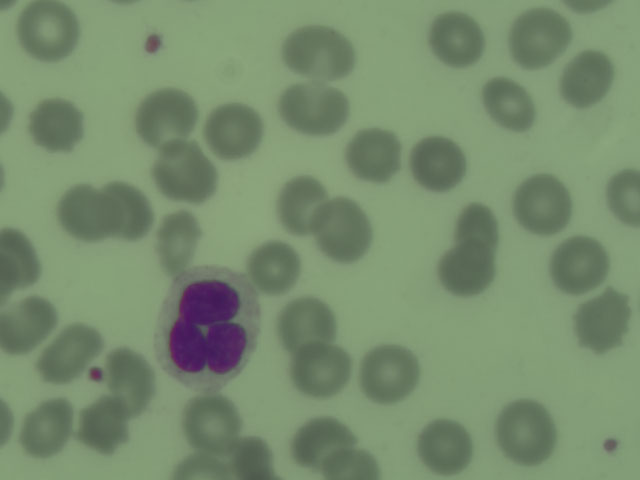Platelets: (140, 31, 167, 59), (599, 434, 620, 459), (87, 365, 107, 385)
RBC: (278, 20, 359, 78), (279, 83, 354, 138), (413, 136, 466, 193), (574, 292, 627, 349), (552, 237, 605, 294), (514, 174, 567, 231), (499, 403, 552, 460), (418, 417, 471, 474), (362, 344, 415, 401), (294, 413, 347, 470), (294, 342, 347, 399), (281, 297, 334, 354), (318, 197, 371, 254), (273, 176, 326, 233), (483, 77, 536, 134), (559, 51, 612, 108), (514, 10, 567, 67), (429, 11, 482, 68), (246, 241, 299, 298), (186, 390, 239, 447), (19, 399, 72, 456), (76, 398, 129, 455), (110, 352, 163, 409), (41, 323, 94, 380), (154, 210, 207, 267), (159, 145, 212, 202), (205, 102, 258, 159), (141, 88, 194, 145), (28, 96, 81, 153), (21, 3, 74, 60), (439, 242, 492, 299), (451, 195, 504, 252), (345, 125, 398, 182), (1, 297, 52, 354), (58, 186, 108, 240), (1, 229, 41, 293), (603, 166, 640, 232), (102, 185, 150, 235), (313, 445, 381, 480), (225, 432, 272, 479), (173, 447, 224, 479)
WBC: (159, 265, 259, 387)
